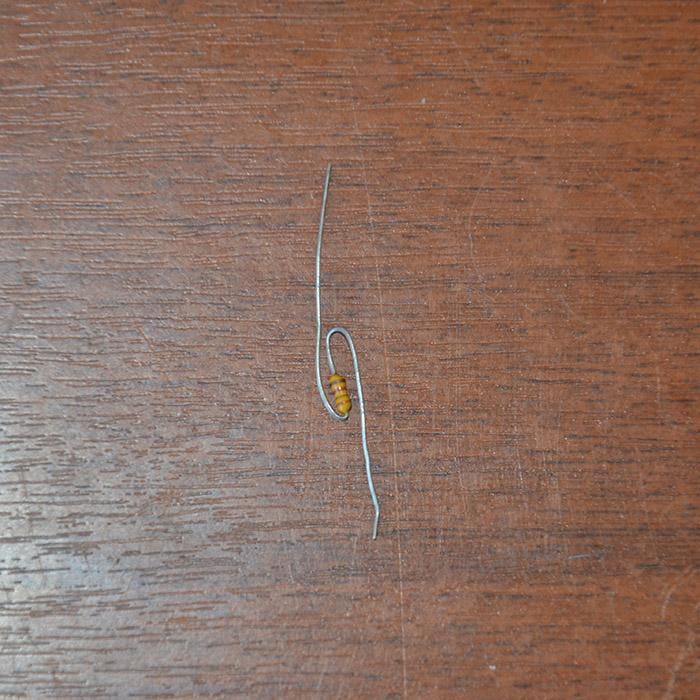resistor: (327, 371, 351, 413)
